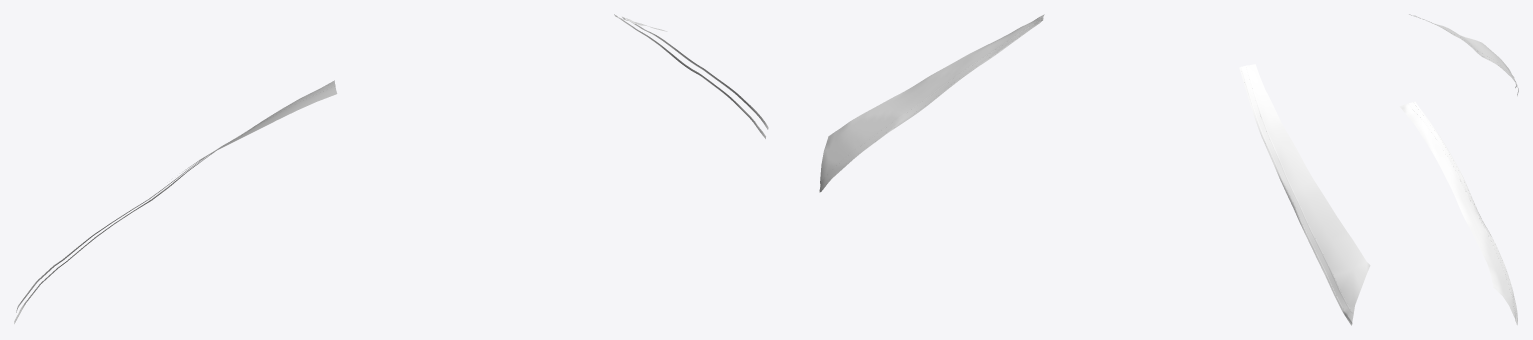
The model's file is Jac_Decor_BEHIND.glb.
3 renders of one model, left to right at view 1: azimuth 30°, elevation 25°; view 2: azimuth 150°, elevation 25°; view 3: azimuth 270°, elevation 25°, orthographic. The views are drawn at different scales.
Visible parts, largest first — view 1: Jac_Rope_Decor_BEHIND.001, Jac_Decor_BEHIND.001; view 2: Jac_Decor_BEHIND.001, Jac_Rope_Decor_BEHIND.001; view 3: Jac_Decor_BEHIND.001, Jac_Rope_Decor_BEHIND.001.
Boxes of the visible parts, x1=… form: Jac_Rope_Decor_BEHIND.001: x1=14, y1=14, x2=768, y2=323; Jac_Decor_BEHIND.001: x1=183, y1=18, x2=667, y2=171; Jac_Decor_BEHIND.001: x1=819, y1=14, x2=1370, y2=325; Jac_Rope_Decor_BEHIND.001: x1=819, y1=16, x2=1352, y2=323; Jac_Decor_BEHIND.001: x1=1399, y1=21, x2=1517, y2=323; Jac_Rope_Decor_BEHIND.001: x1=1408, y1=14, x2=1518, y2=324.
Size of the model in its own units: 0.7777 by 0.2408 by 0.1672.
2 materials, 2 textured.
